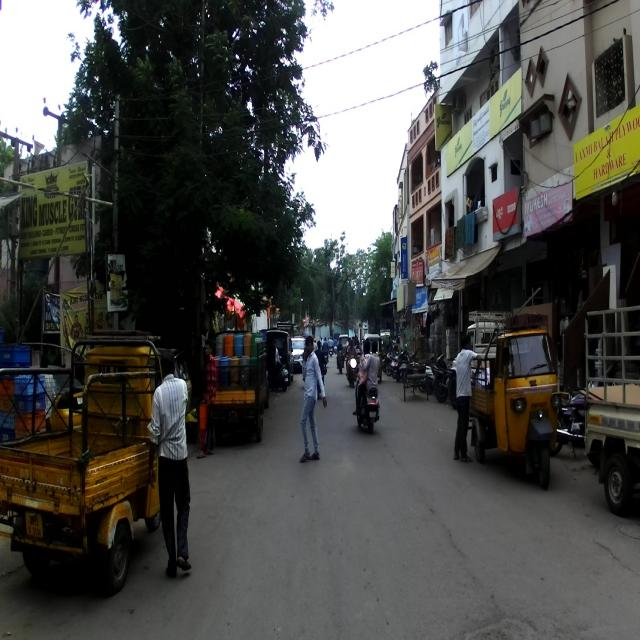autorickshaw: (0, 328, 167, 594), (462, 312, 558, 482)
scooter: (353, 365, 380, 437)
